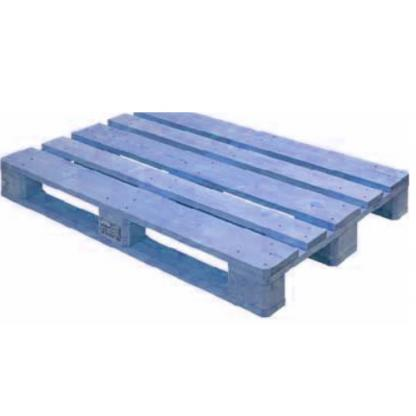BoxFace: (1, 106, 415, 327)
